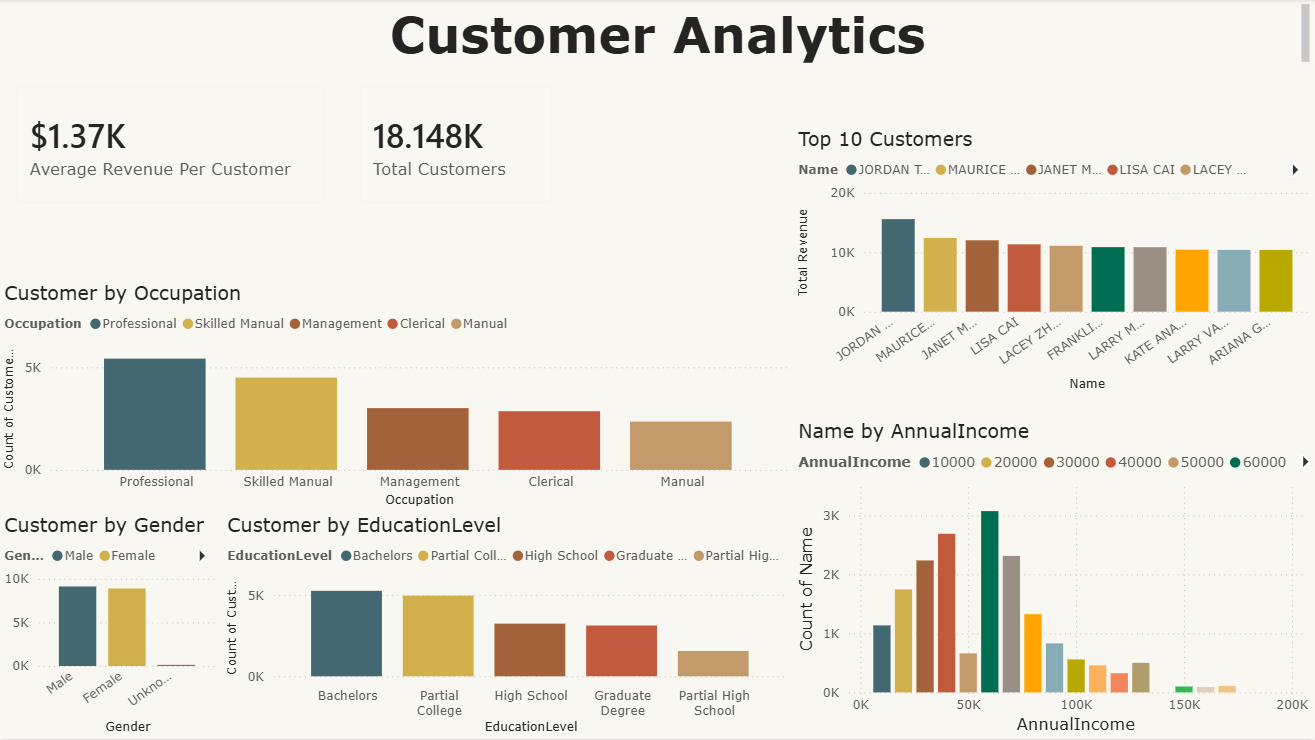

Layout of this report page (visuals, bound fields, positions):
{"tool":"tableau","page":{"name":"Dashboard 1","canvas":[1000,1000],"units":"permille","ordinal":0},"visuals":[{"type":"text","box":[4.7,8.8,990.6,90.7]},{"type":"worksheet","title":"Sheet 3","mark":"Automatic","box":[4.7,99.6,111,163.7]},{"type":"worksheet","title":"Sheet 5","mark":"Automatic","box":[115.7,99.6,111,163.7]},{"type":"worksheet","title":"Sheet 4","mark":"Automatic","box":[226.7,99.6,113.3,163.7]},{"type":"worksheet","title":"Sheet 6","mark":"Automatic","box":[339.9,99.6,113.2,163.7]},{"type":"worksheet","title":"Sheet 2","mark":"Automatic","box":[453.2,99.6,228.5,218.9]},{"type":"worksheet","title":"Sheet 1","mark":"Automatic","box":[681.7,99.6,220,129.5]},{"type":"legend","title":"Sheet 7","param":"[federated.1aws9jr1iyr5lv11f7j1b1no7b1o].[:Measure Names]","box":[901.7,99.6,93.6,50.9]},{"type":"legend","title":"Sheet 9","param":"[federated.1aws9jr1iyr5lv11f7j1b1no7b1o].[sum:Sales:qk]","box":[901.7,150.5,93.6,71.9]},{"type":"legend","title":"Sheet 10","param":"[federated.1aws9jr1iyr5lv11f7j1b1no7b1o].[none:Gender:nk]","box":[901.7,222.3,93.6,95.1]},{"type":"worksheet","title":"Sheet 8","mark":"Automatic","rows":["Sales"],"cols":["CategoryName"],"box":[681.7,229.1,220,316.3]},{"type":"worksheet","title":"Sheet 7","mark":"Automatic","rows":["Sales"],"cols":["OrderDate"],"box":[4.7,263.2,448.5,309.2]},{"type":"legend","title":"Sheet 10","param":"[federated.1aws9jr1iyr5lv11f7j1b1no7b1o].[sum:Sales:qk]","box":[901.7,317.5,93.6,50.9]},{"type":"worksheet","title":"Sheet 11","mark":"Automatic","rows":["Sales"],"cols":["Year"],"box":[453.2,318.4,228.5,672.7]},{"type":"legend","title":"Sheet 11","param":"[federated.1aws9jr1iyr5lv11f7j1b1no7b1o].[none:Year:nk]","box":[901.7,368.4,93.6,95.1]},{"type":"legend","title":"Sheet 8","param":"[federated.1aws9jr1iyr5lv11f7j1b1no7b1o].[none:CategoryName:nk]","box":[901.7,463.5,93.6,95.1]},{"type":"worksheet","title":"Sheet 10","mark":"Pie","box":[681.7,545.4,220,445.8]},{"type":"worksheet","title":"Sheet 9","mark":"Automatic","box":[4.7,572.5,448.5,418.7]}]}

Visuals, with their boxes on the dashboard's canvas, which has no fixed pixel size, in thousandths of its width and height (x1, y1, x2, y2). These are canvas units, not pixel positions in the 1315x740 screenshot, which may show the page scaled, cropped or inside an application window:
text: <region>5, 9, 995, 100</region>
"Sheet 3" worksheet: <region>5, 100, 116, 263</region>
"Sheet 5" worksheet: <region>116, 100, 227, 263</region>
"Sheet 4" worksheet: <region>227, 100, 340, 263</region>
"Sheet 6" worksheet: <region>340, 100, 453, 263</region>
"Sheet 2" worksheet: <region>453, 100, 682, 318</region>
"Sheet 1" worksheet: <region>682, 100, 902, 229</region>
"Sheet 7" legend: <region>902, 100, 995, 150</region>
"Sheet 9" legend: <region>902, 150, 995, 222</region>
"Sheet 10" legend: <region>902, 222, 995, 317</region>
"Sheet 8" worksheet: <region>682, 229, 902, 545</region>
"Sheet 7" worksheet: <region>5, 263, 453, 572</region>
"Sheet 10" legend: <region>902, 318, 995, 368</region>
"Sheet 11" worksheet: <region>453, 318, 682, 991</region>
"Sheet 11" legend: <region>902, 368, 995, 464</region>
"Sheet 8" legend: <region>902, 464, 995, 559</region>
"Sheet 10" worksheet (Pie marks): <region>682, 545, 902, 991</region>
"Sheet 9" worksheet: <region>5, 572, 453, 991</region>
